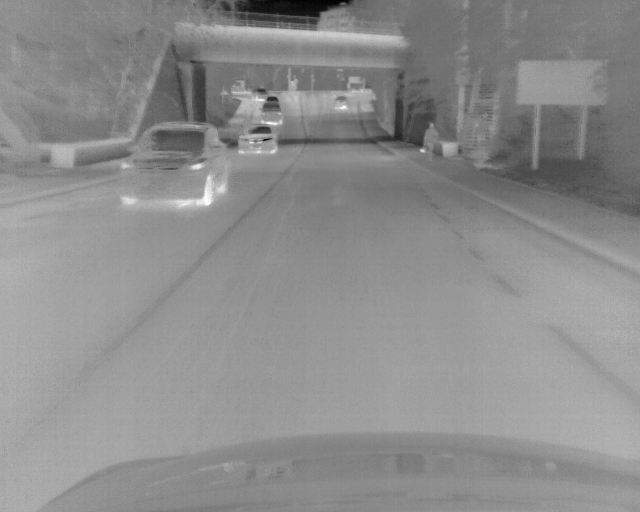car: (116, 120, 232, 209), (236, 123, 278, 156), (260, 101, 282, 125), (226, 78, 246, 91), (249, 87, 267, 98), (334, 94, 347, 109), (266, 95, 279, 102)
people: (419, 120, 440, 165)
